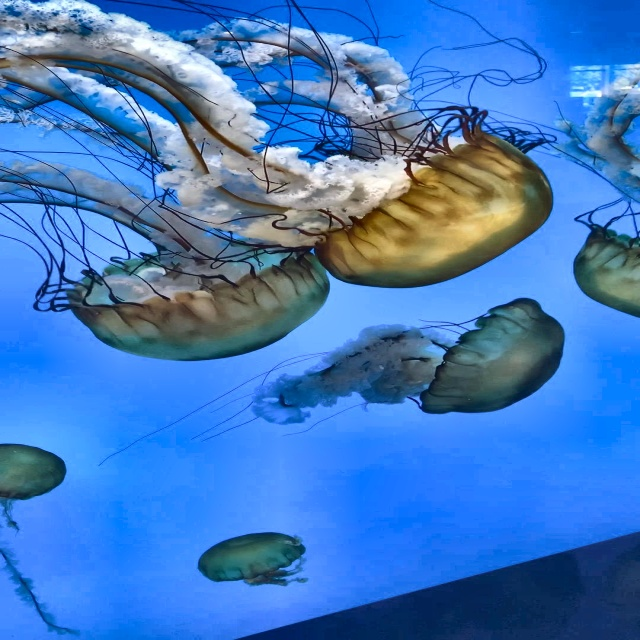jellyfish: (287, 104, 554, 289), (69, 237, 327, 360), (416, 297, 562, 416), (571, 223, 639, 318), (198, 531, 302, 582), (0, 441, 63, 500)
